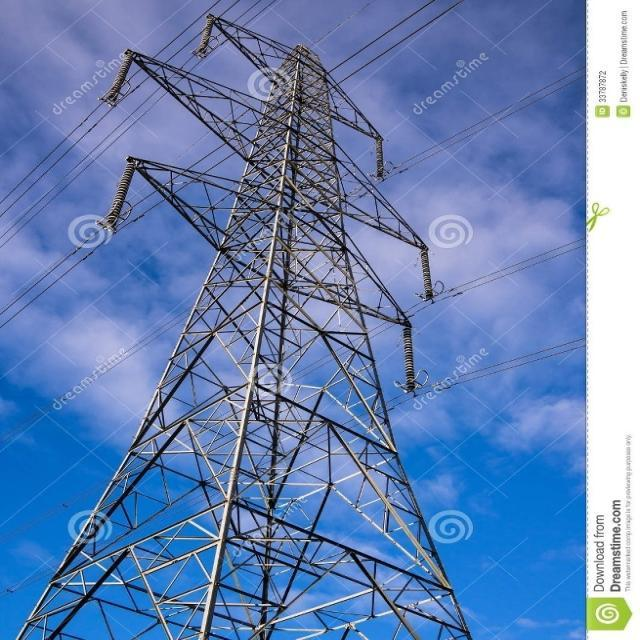non-critical vegetation: (34, 12, 493, 636)
